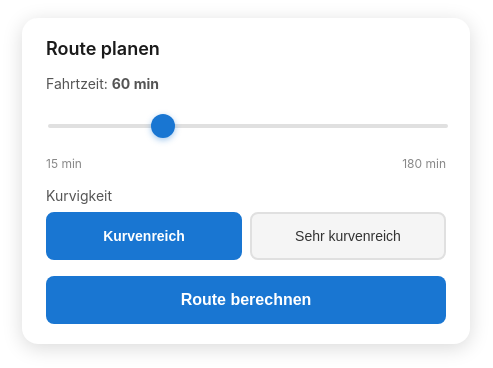
Scenario: RoutePanel › displays updated duration when slider changes
Set the slider to "90". click: (231, 126)
box: [48,102,448,150]
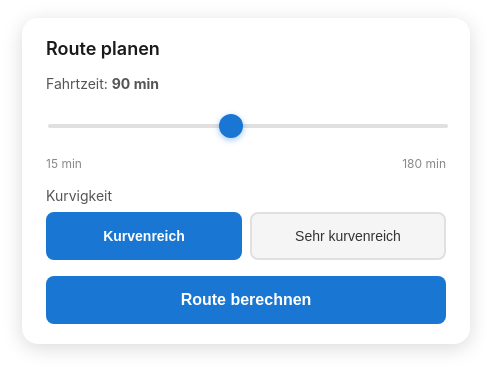
Result: the text "90 min" is shown at [112,75,159,92]
